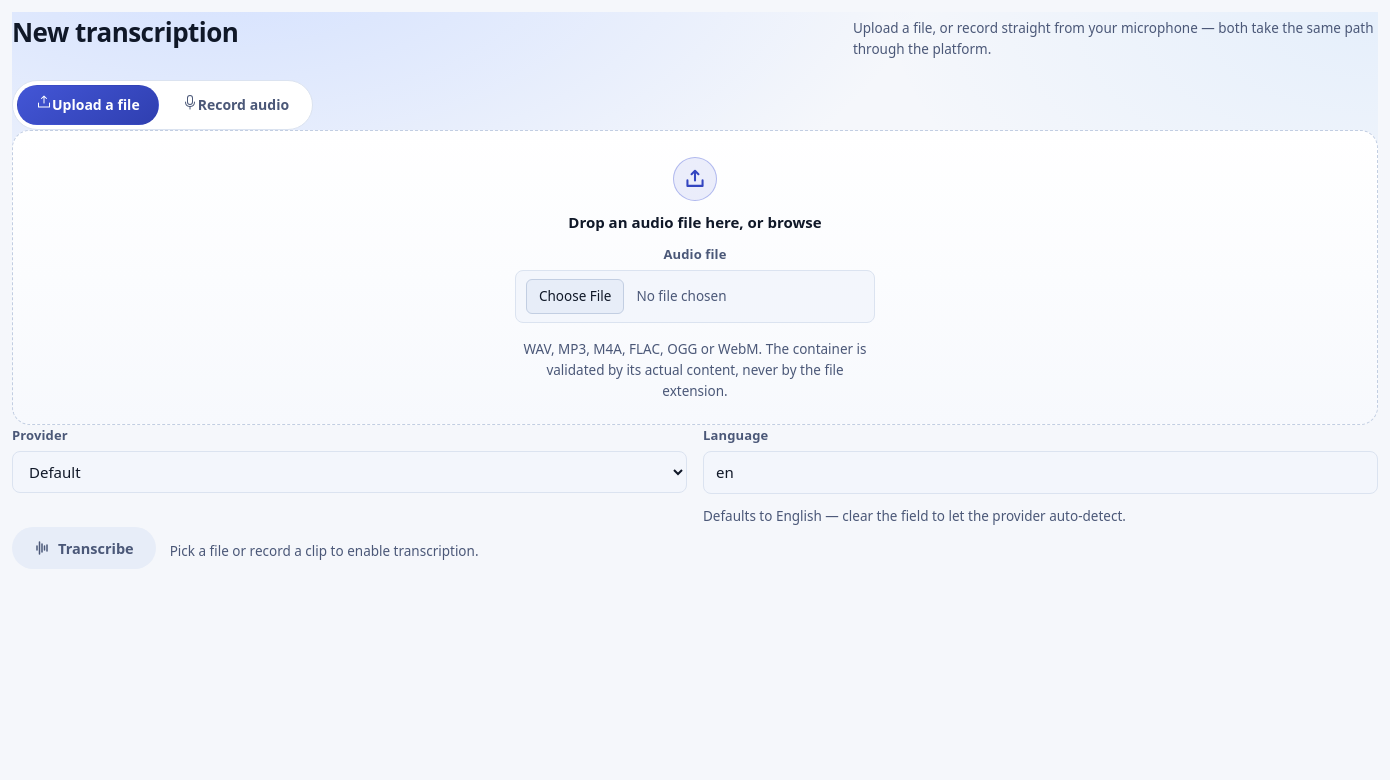
Test case: says the browser cannot record when MediaRecorder is missing
Click the tab "Record audio": click(235, 105) [163, 85, 308, 124]
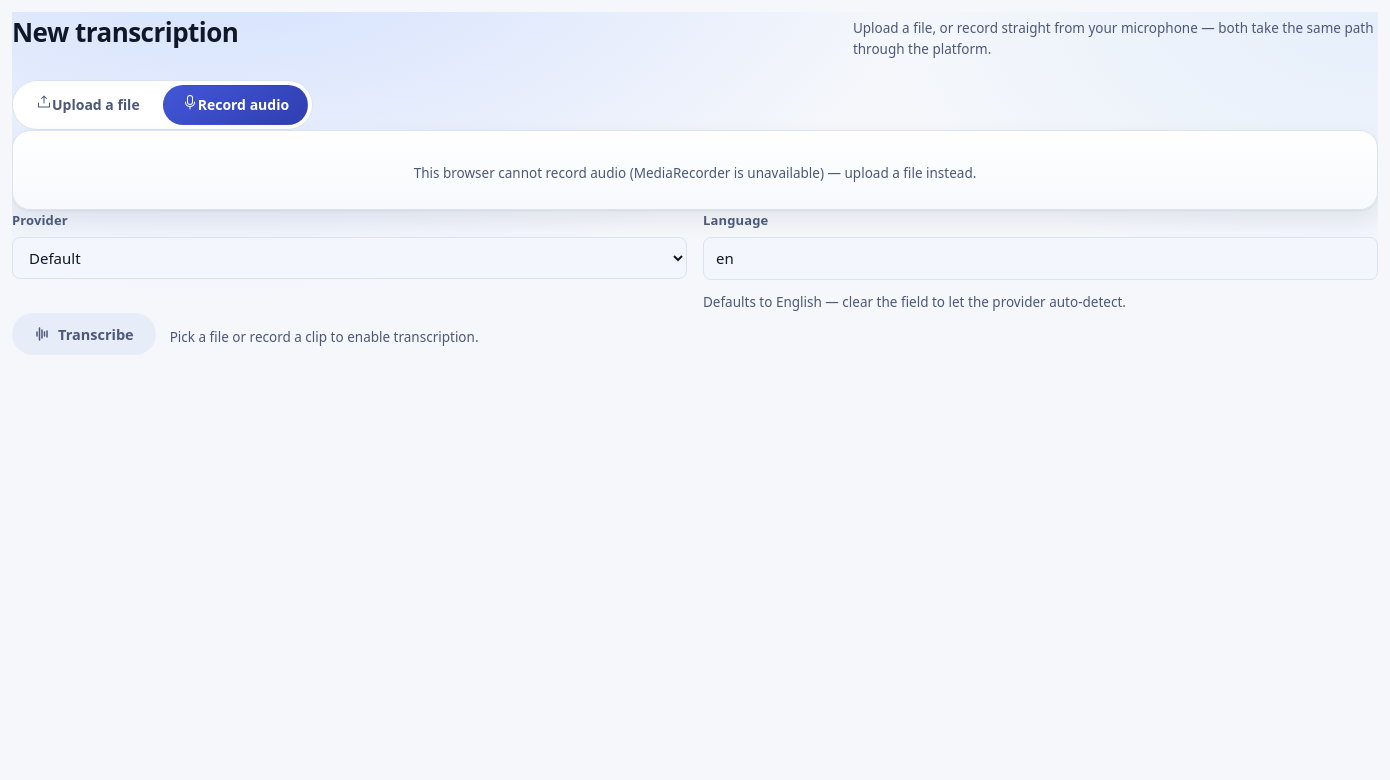
Expected: the text "cannot record audio" is shown, [414, 164, 976, 182]
